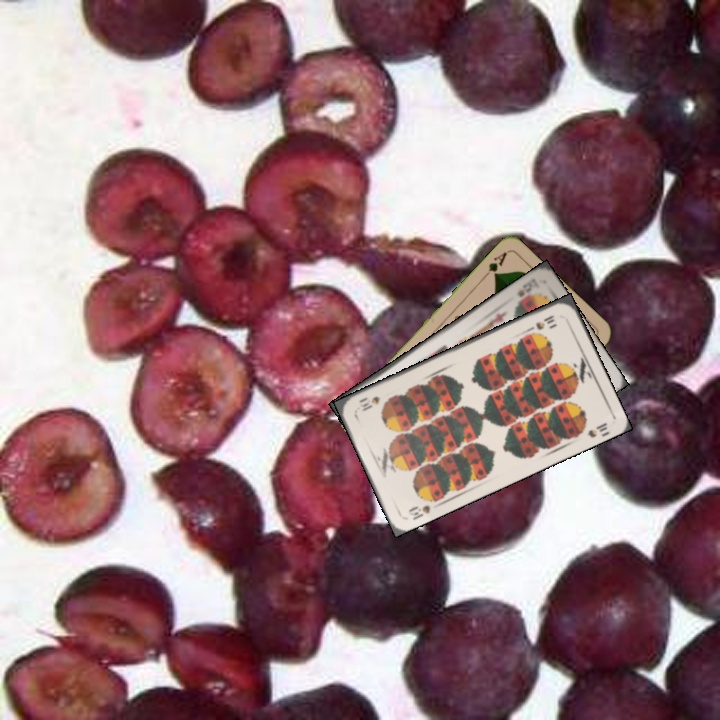GA: (479, 247, 510, 282)
S10: (524, 311, 557, 334), (404, 501, 433, 523)
SK: (513, 277, 542, 300)
